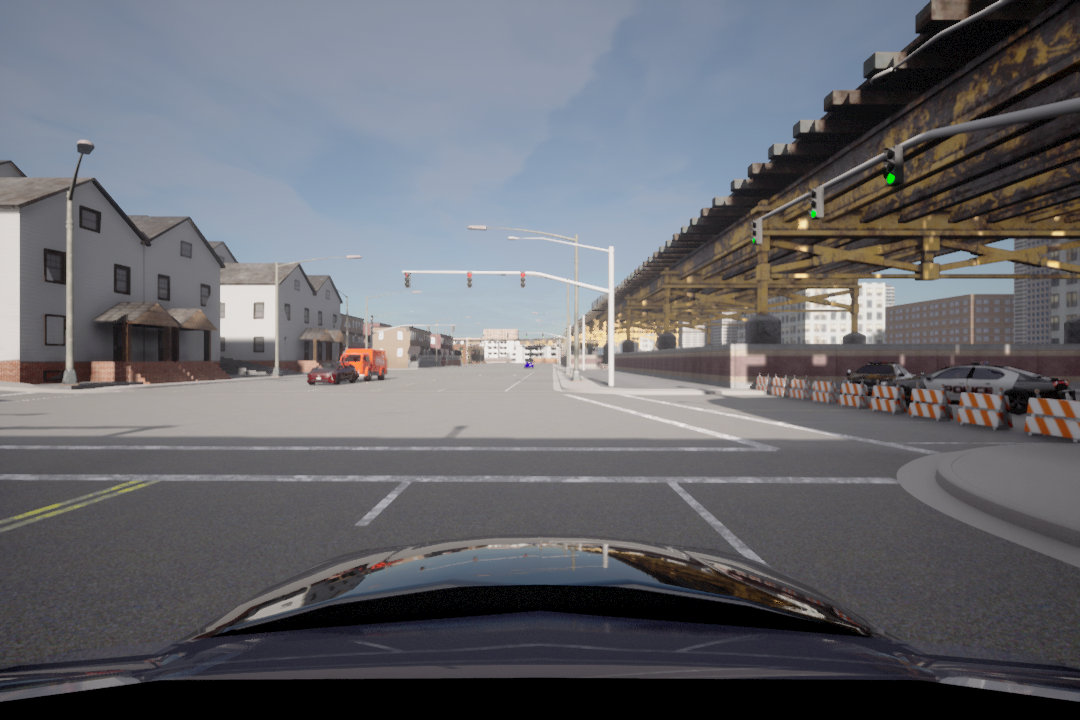RoadSign_forward: (882, 145, 900, 194), (809, 184, 826, 221), (747, 219, 767, 247), (401, 271, 413, 292), (464, 271, 474, 291), (520, 269, 528, 289)
